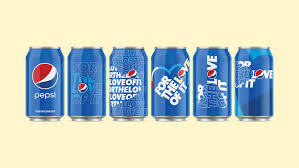Pepsi: (22, 44, 66, 123)
